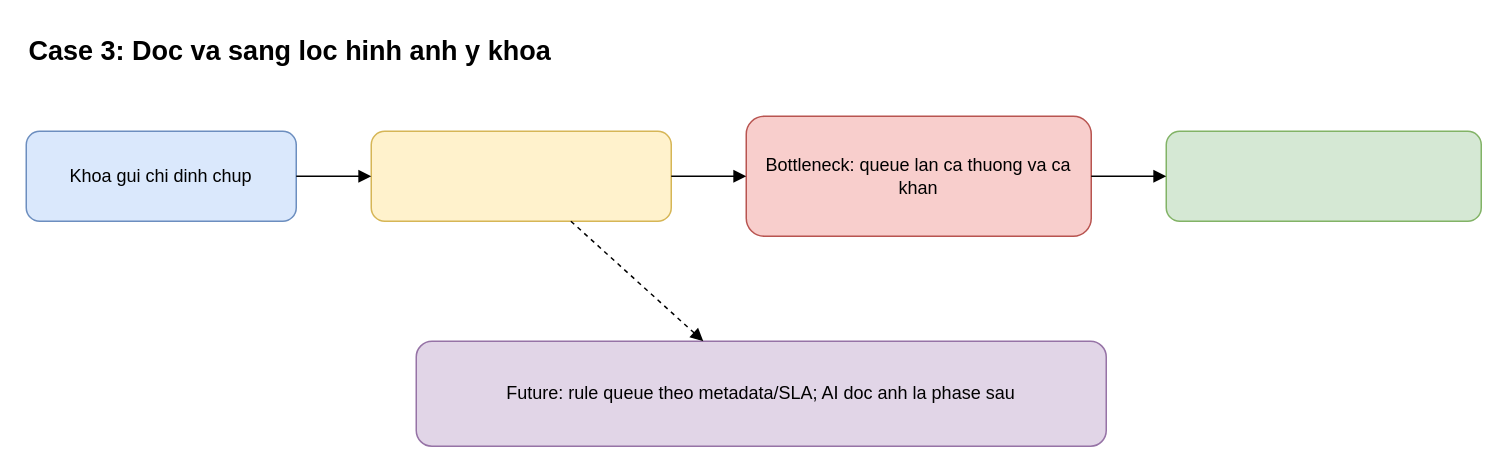
This 1508x473 diagram has some shape labels left out. The shapes that lost their labels are listed below. From the top down, each one's box as (x1, y1, x2, y2) in pixels, then its label:
(370, 130, 671, 221): Handoff: phim vao PACS/RIS
(1165, 130, 1481, 221): Bac si doc phim va tra bao cao
